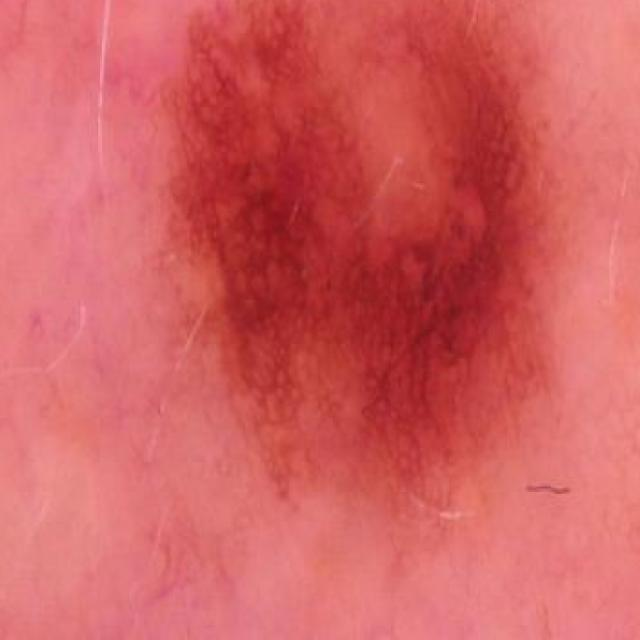NV: (162, 0, 607, 503)
